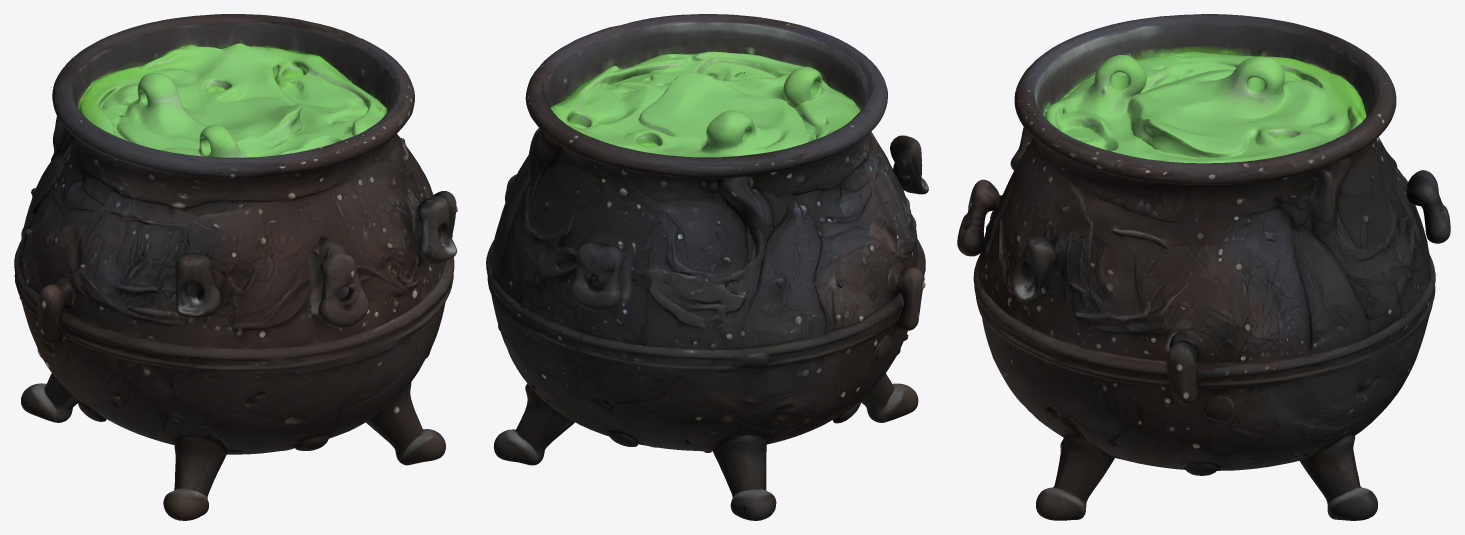
The model's file is prop-cauldron-large.glb.
3 views of the same model, side by side, from view 1: azimuth 30°, elevation 25°; view 2: azimuth 150°, elevation 25°; view 3: azimuth 270°, elevation 25° (orthographic). The views are drawn at different scales.
Visible parts, largest first — view 1: tripo_node_08f8087c-fc7a-48e6-a0d9-6646f6cca1e7; view 2: tripo_node_08f8087c-fc7a-48e6-a0d9-6646f6cca1e7; view 3: tripo_node_08f8087c-fc7a-48e6-a0d9-6646f6cca1e7.
Part boxes in pixels (bbox=[...]): tripo_node_08f8087c-fc7a-48e6-a0d9-6646f6cca1e7: bbox=[14, 14, 457, 520]; tripo_node_08f8087c-fc7a-48e6-a0d9-6646f6cca1e7: bbox=[486, 14, 928, 520]; tripo_node_08f8087c-fc7a-48e6-a0d9-6646f6cca1e7: bbox=[957, 14, 1450, 520].
Size of the model in its own units: 2.43 by 2 by 2.37.
1 material, 1 textured.
